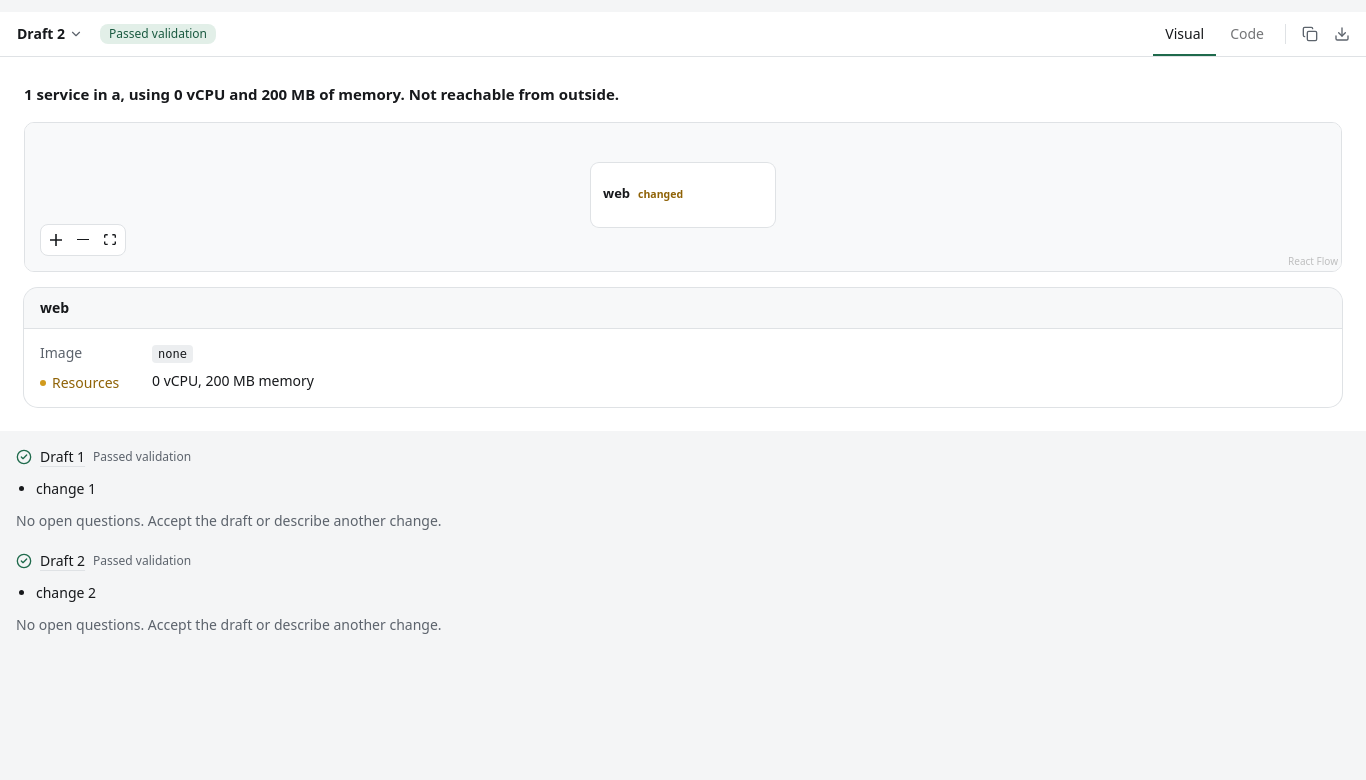
Test: viewing an older draft › opens a draft from its heading in the conversation
Click the button with aria-label "View draft 1 in the SLA pane" at (63, 456), box [40,446,85,466]
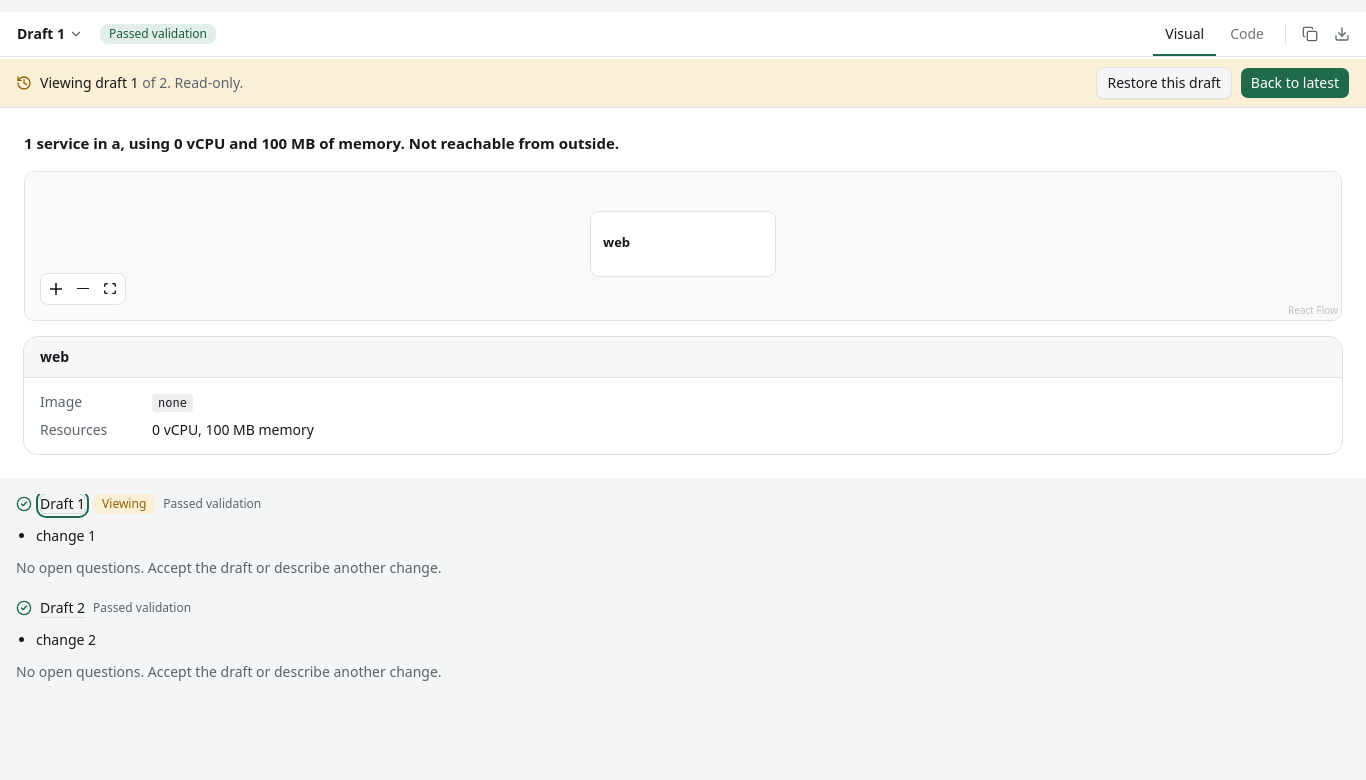
Expected: the text "Viewing draft 1" is shown, [40,73,139,92]
Expected: the text "Viewing" is shown, [93,494,155,514]
